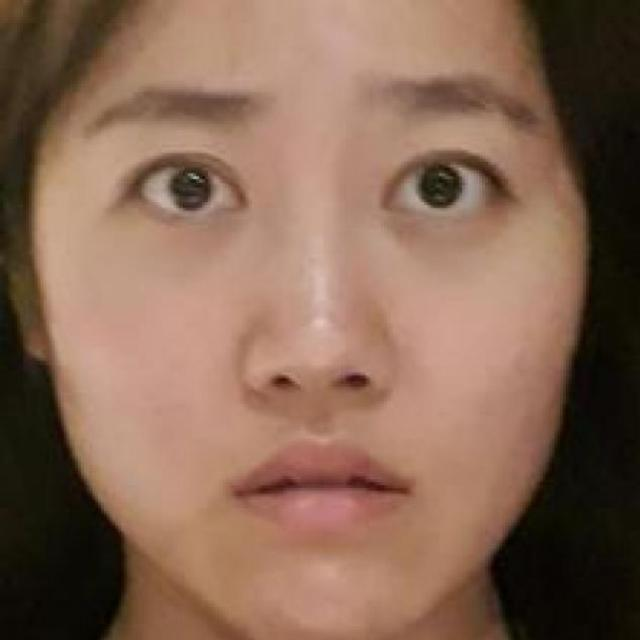Disgust: (61, 8, 569, 635)
